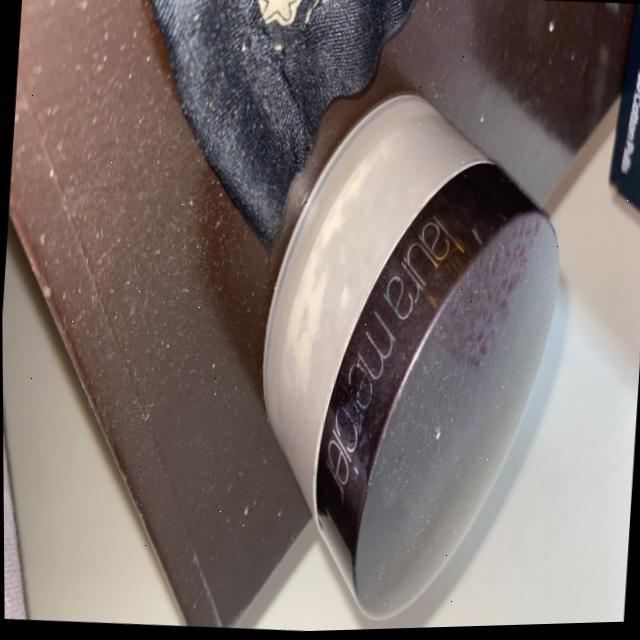powder: (208, 19, 516, 568)
